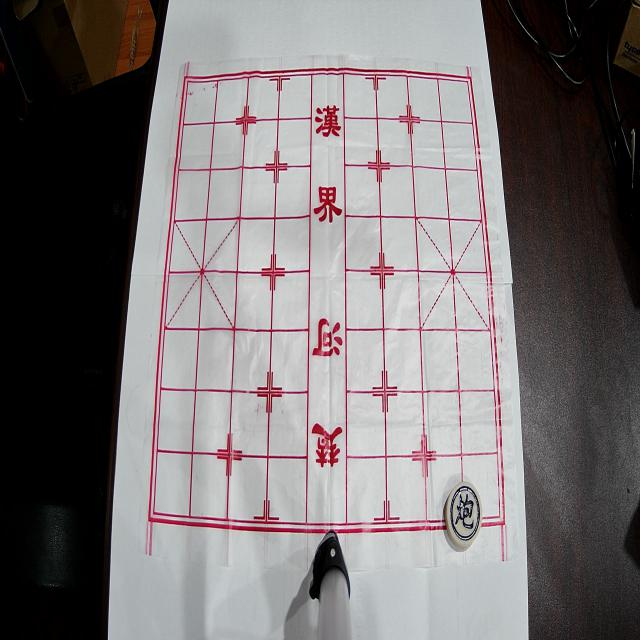black-cannon: (445, 482, 482, 548)
